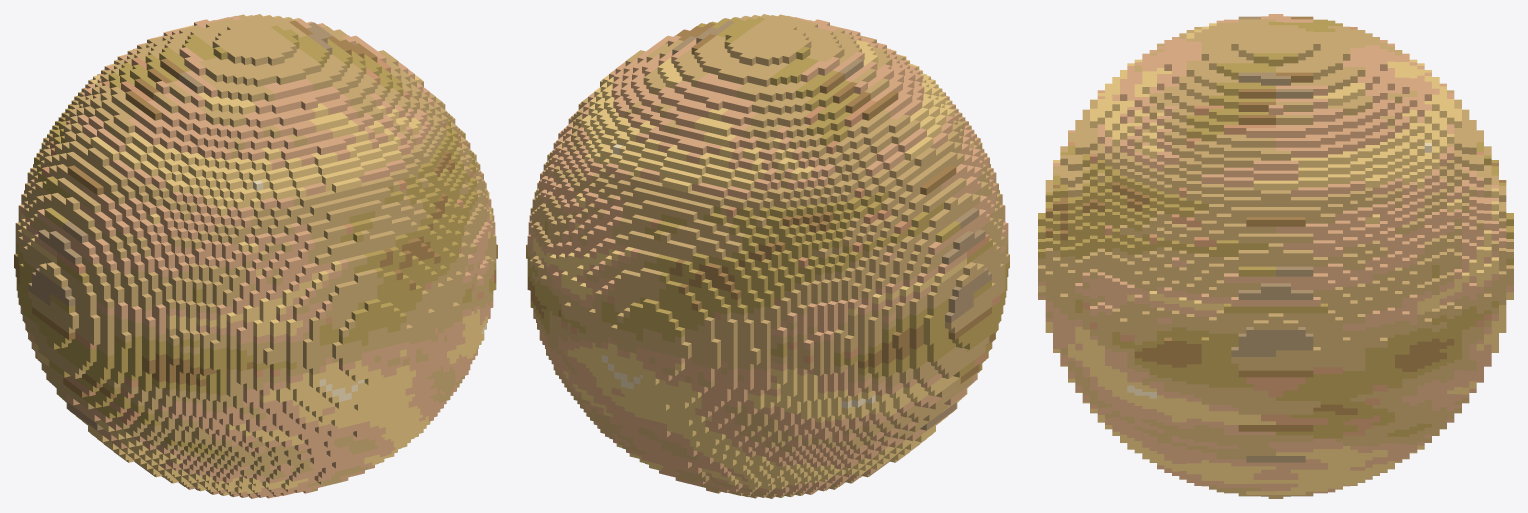
Rendered from venus.glb.
The picture shows the model from 3 angles, left to right: view 1: azimuth 30°, elevation 25°; view 2: azimuth 150°, elevation 25°; view 3: azimuth 270°, elevation 25°; orthographic projection.
Parts seen in each view (by area): view 1: Voxel Venus; view 2: Voxel Venus; view 3: Voxel Venus.
Boxes of the visible parts, <box> form: Voxel Venus: <box>14,14,497,498</box>; Voxel Venus: <box>526,14,1009,498</box>; Voxel Venus: <box>1038,14,1513,498</box>.
Bounding box in the file's own units: 6.4 × 6.4 × 6.4.
1 material, 1 textured.
